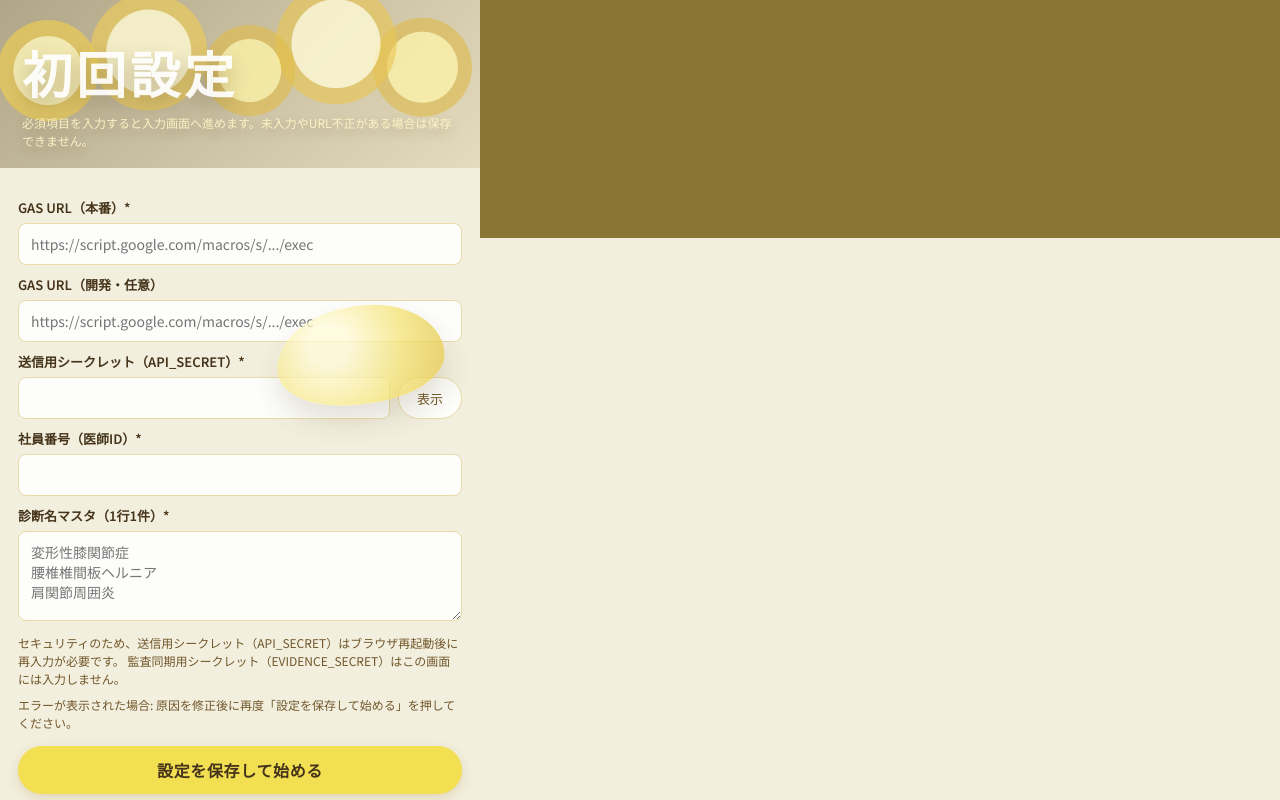
Test case: SetupScreen › 社員番号の形式が不正な場合は保存しない
Step 1. Type "https://script.google.com/macros/s/xxx/exec" into the field named "gasUrlProd" → (240, 244), box [18,223,462,265]
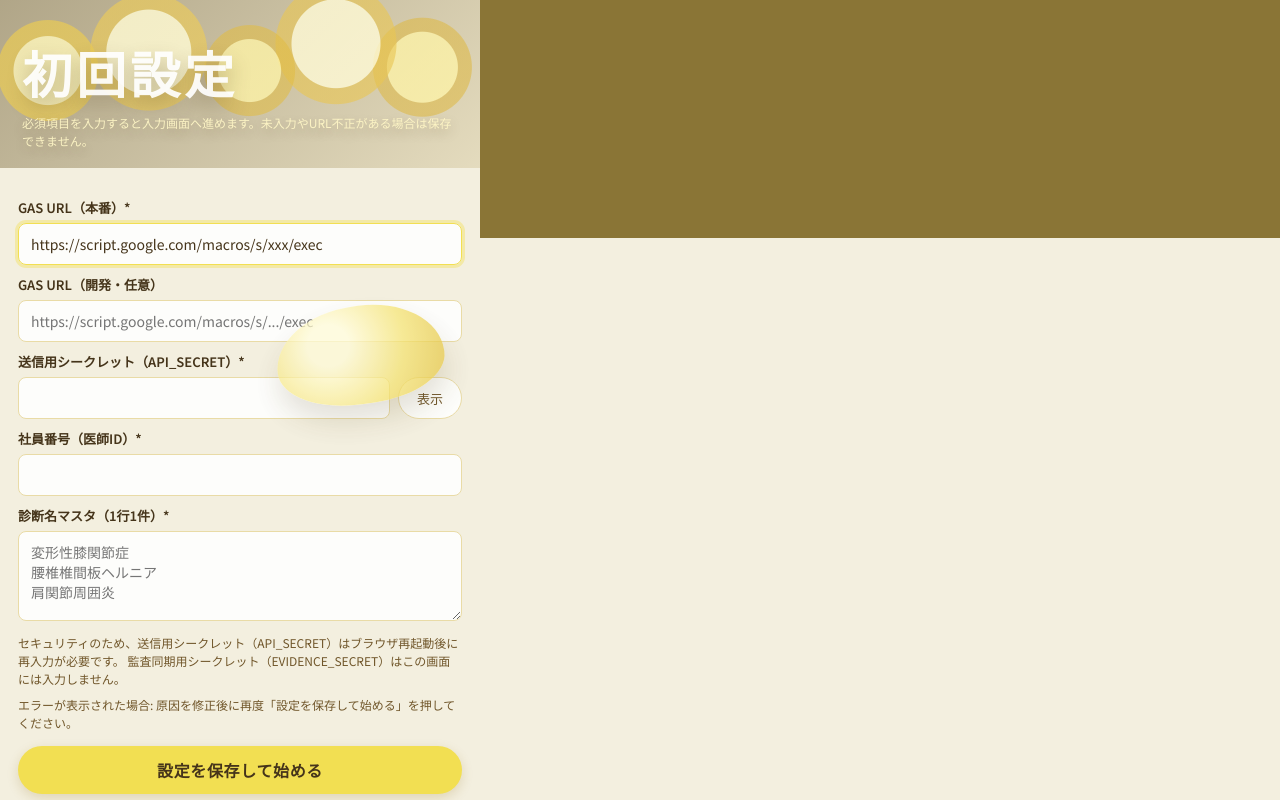
Step 2. Type "secret" into the password field named "apiSecret" → (204, 398), box [18,377,390,419]
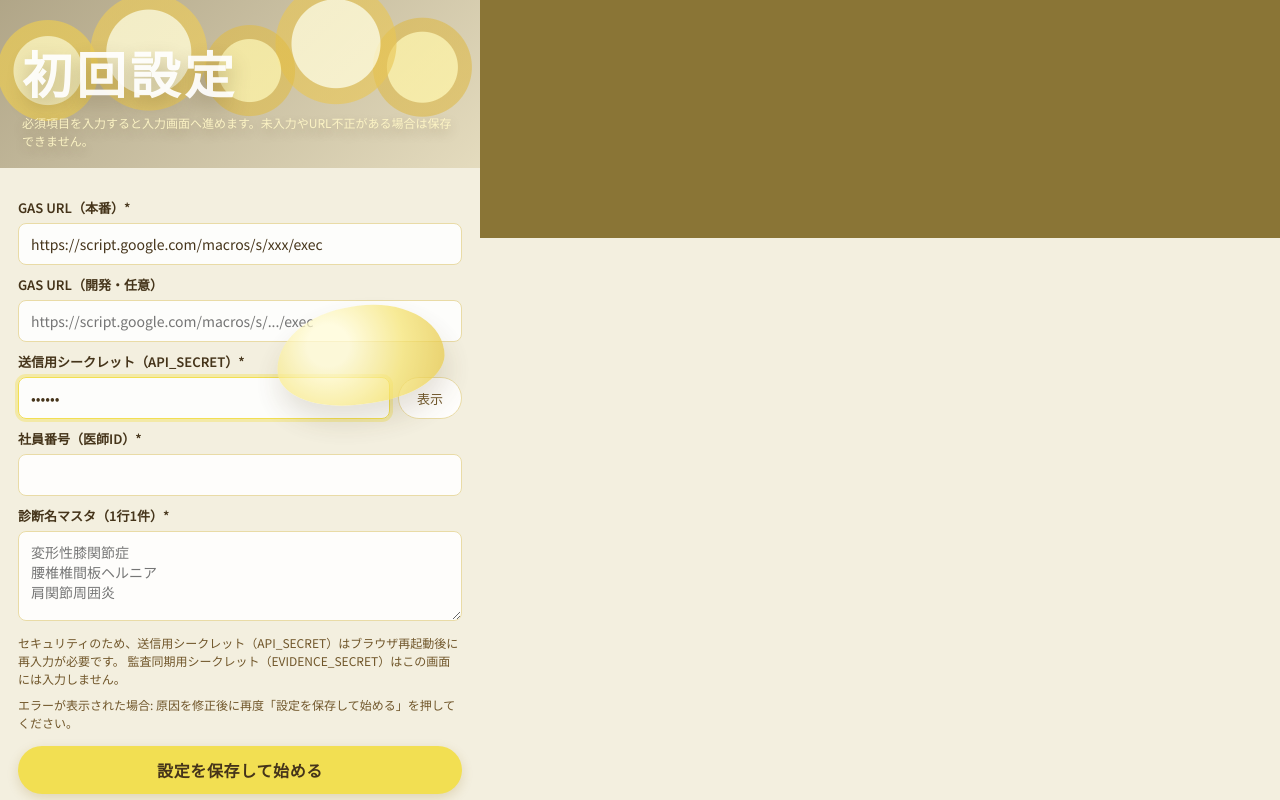
Step 3. Type "12 345" into the field named "doctorId" → (240, 475), box [18,454,462,496]
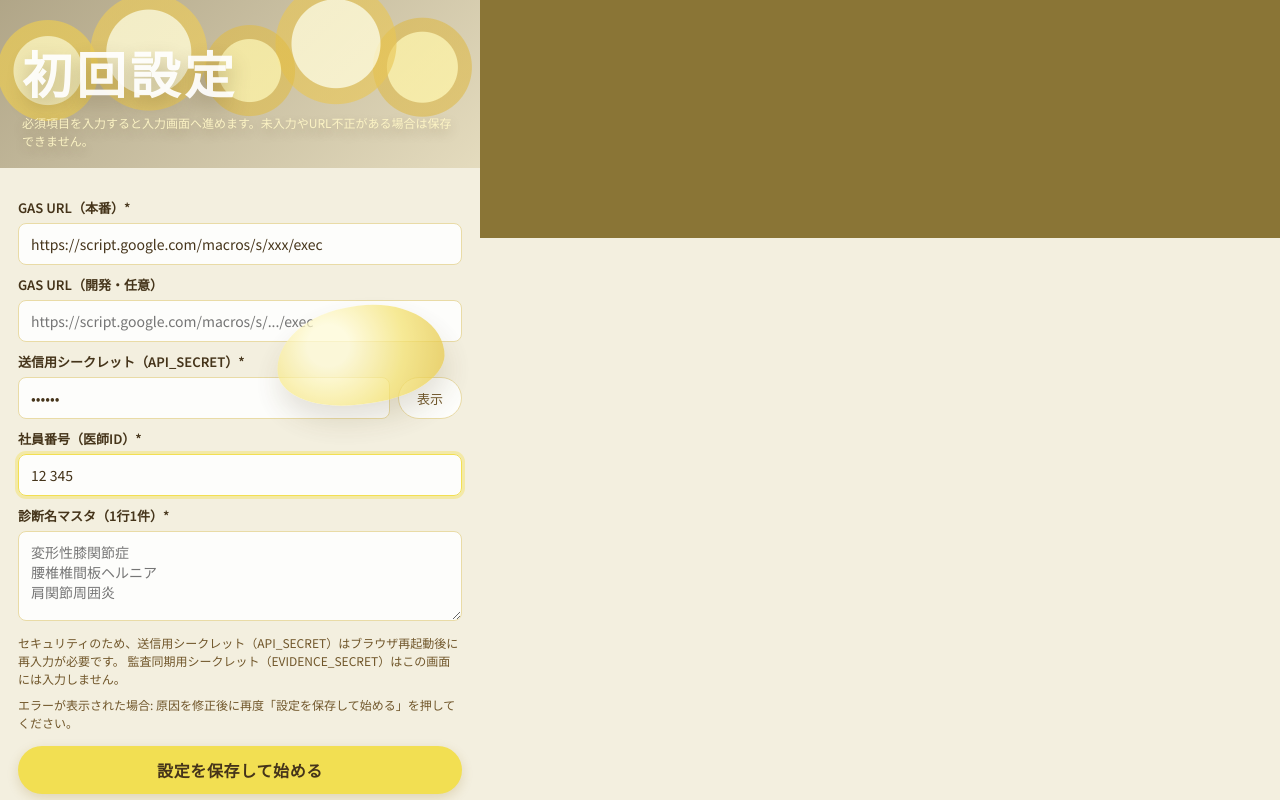
Step 4. Type "腰痛" into the text box named "diagnosisMaster" → (240, 576), box [18,531,462,621]
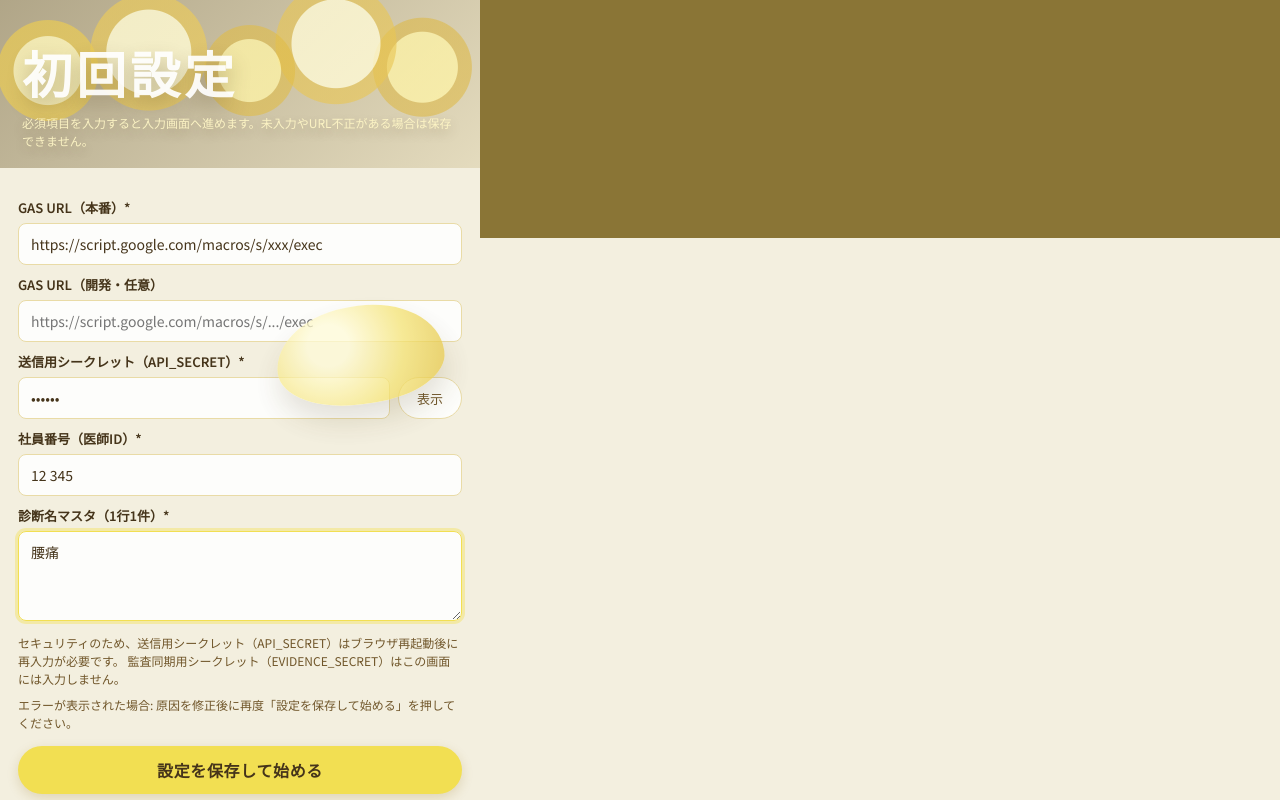
Step 5. Click the button "設定を保存して始める" → (240, 770), box [18,746,462,794]
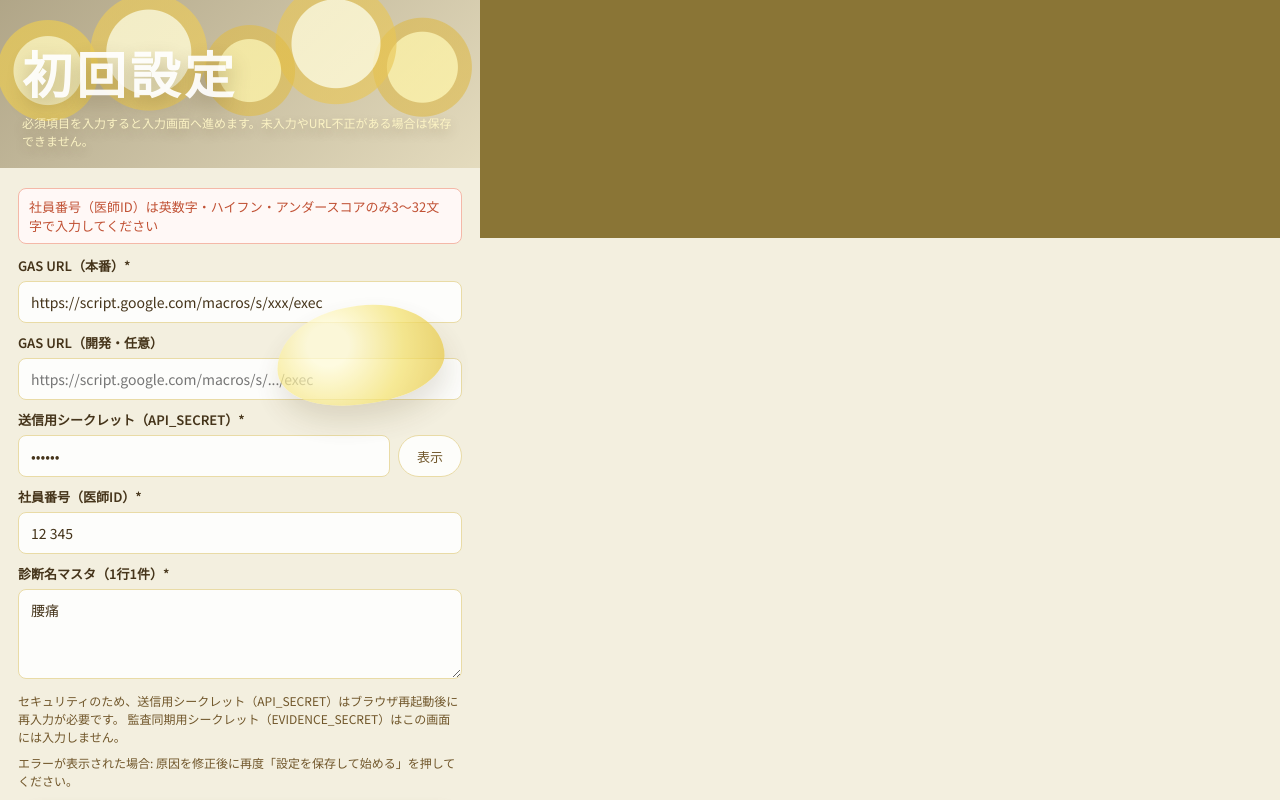
Now the message reads "社員番号（医師ID）は英数字・ハイフン・アンダースコアのみ3〜32文字で入力してください", box [29,197,439,235]
